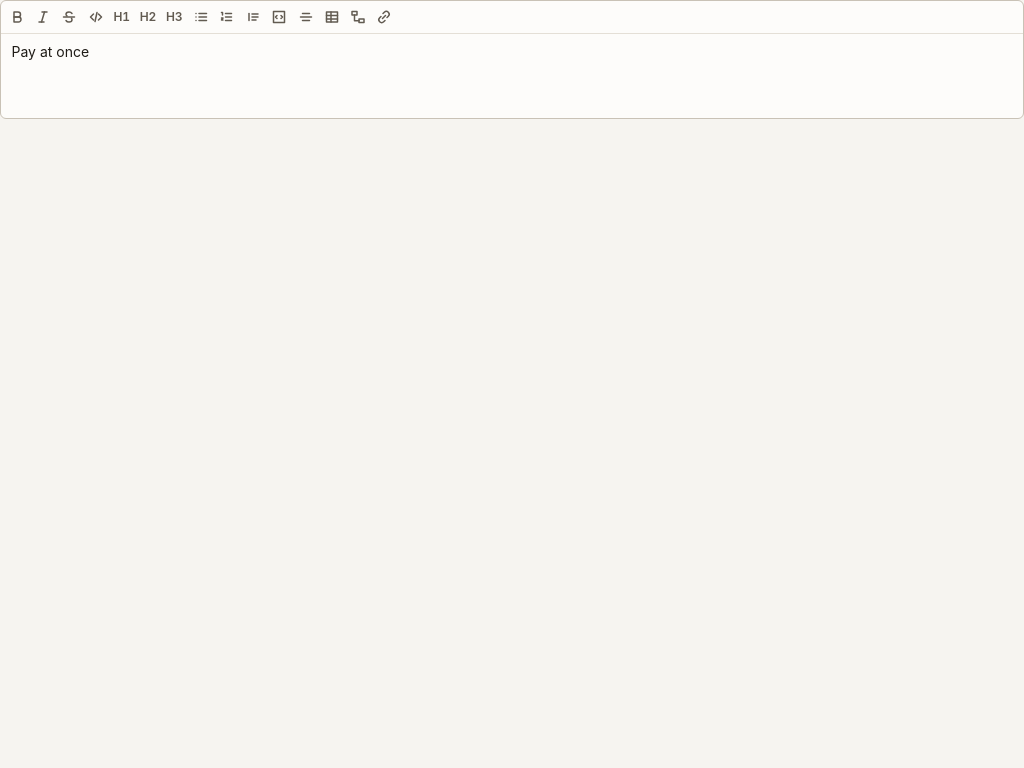
Test: the link dialog › refuses an address a browser would run, and changes nothing
Check: the button named "Bold" is shown, box [4, 4, 29, 29]
Click the button named "Link".
click(384, 17)  # box [372, 4, 396, 29]
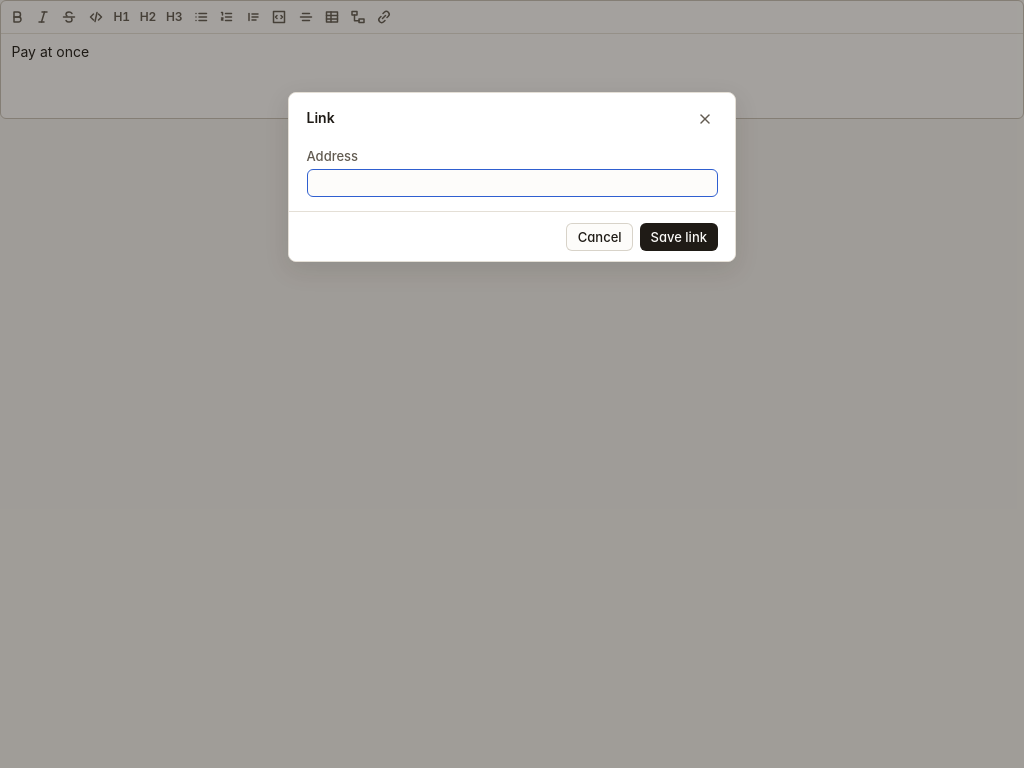
Type "javascript:alert(1)" into the field labelled "Address".
click(512, 183); type("javascript:alert(1)")  # box [306, 169, 718, 197]
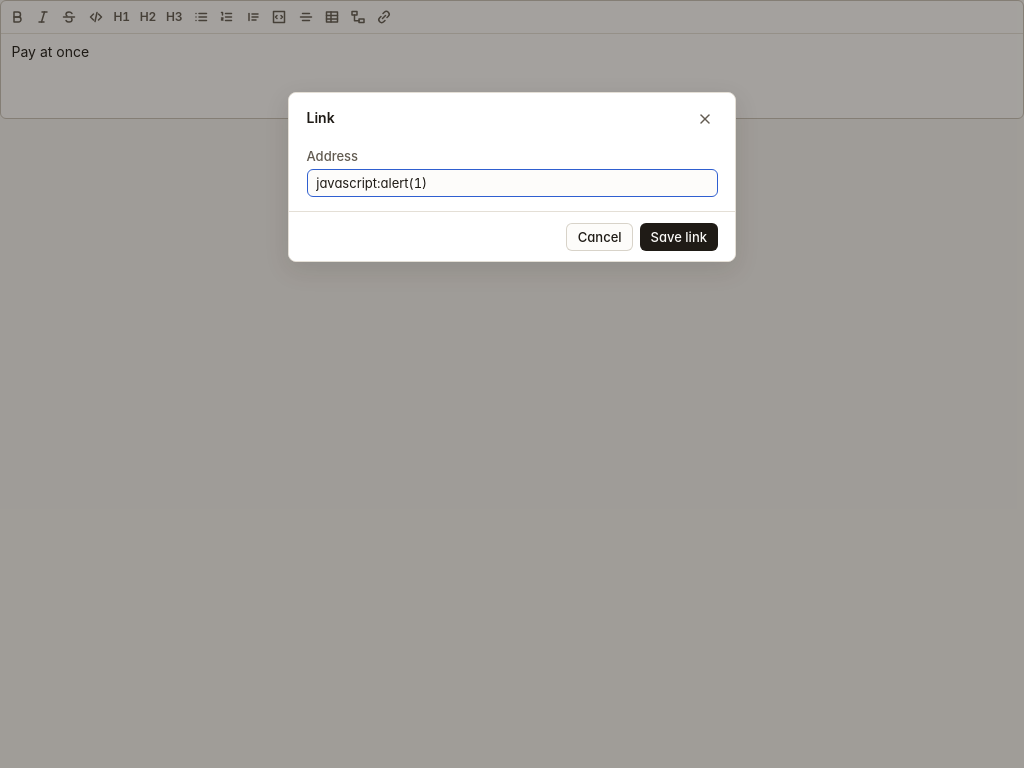
Click the button "Save link".
click(679, 237)  # box [640, 223, 718, 251]
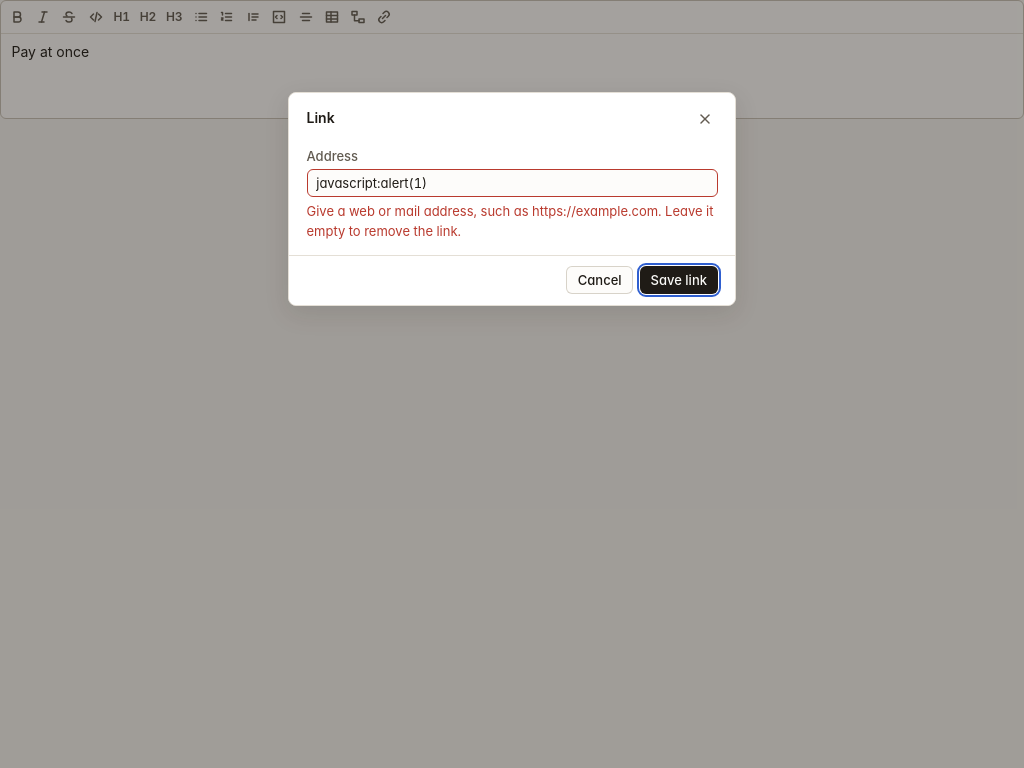
Check: the text "Give a web or mail address, such as https://example.com. Leave it empty to remove the link." is shown, box [306, 203, 714, 239]
Replace the text in the field labelled "Address" with "data:text/html,<b>x</b>" at point(512, 183), box [306, 169, 718, 197]
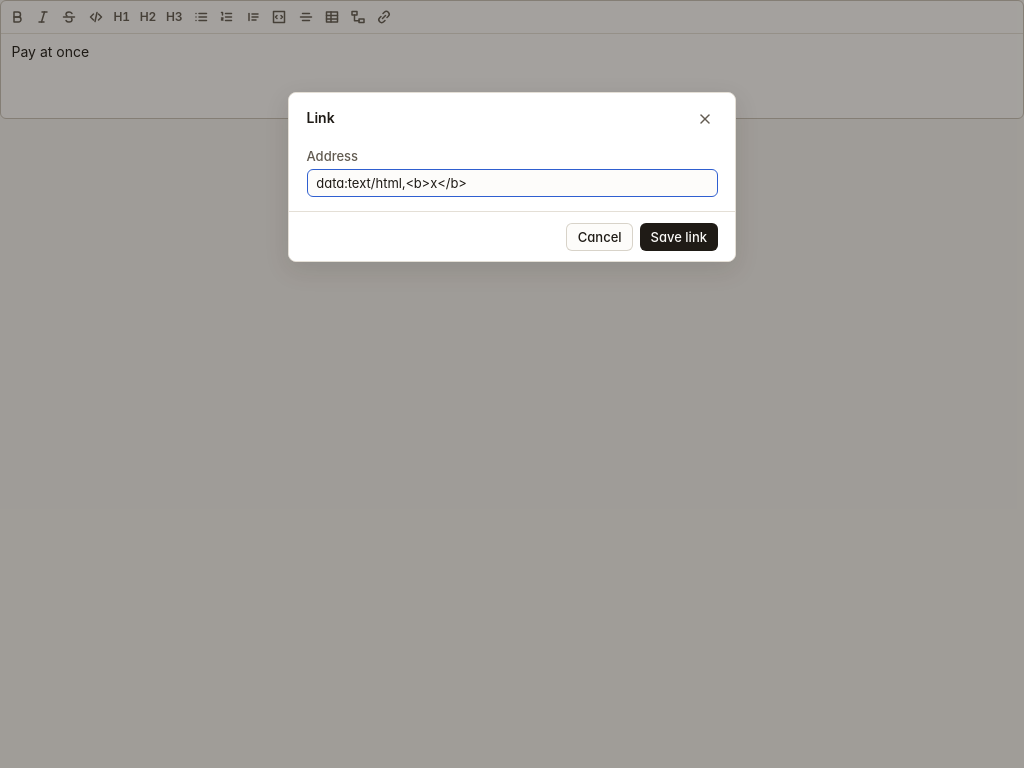
Click the button "Save link".
click(679, 237)  # box [640, 223, 718, 251]
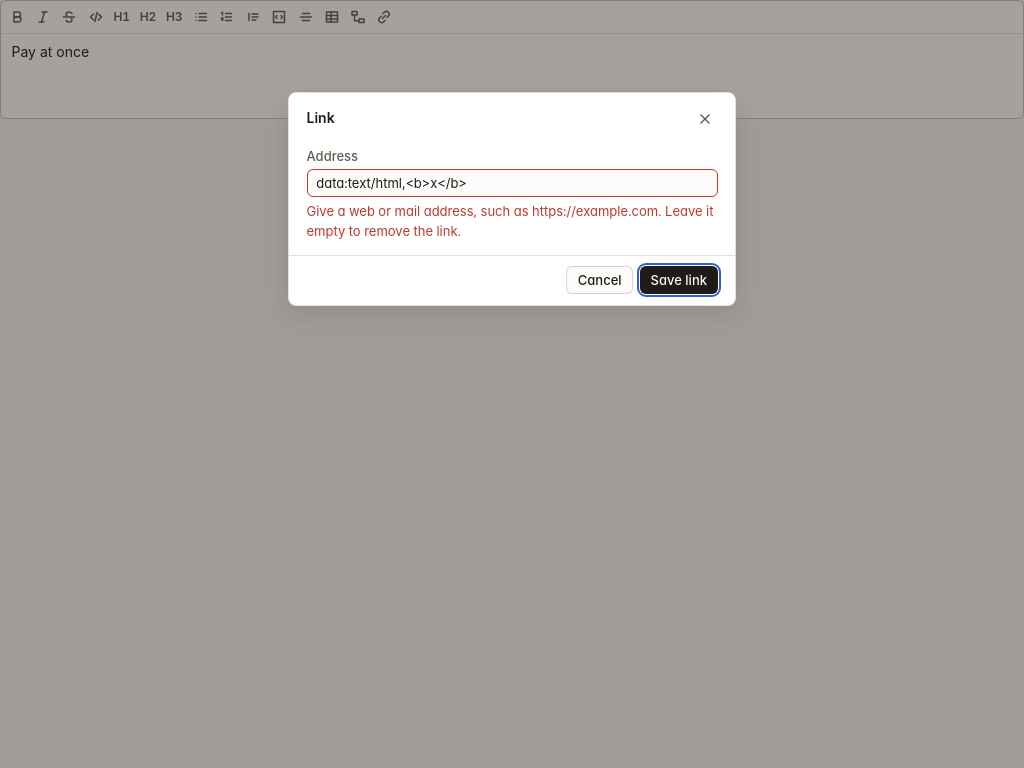
Check: the text "Give a web or mail address, such as https://example.com. Leave it empty to remove the link." is shown, box [306, 203, 714, 239]
